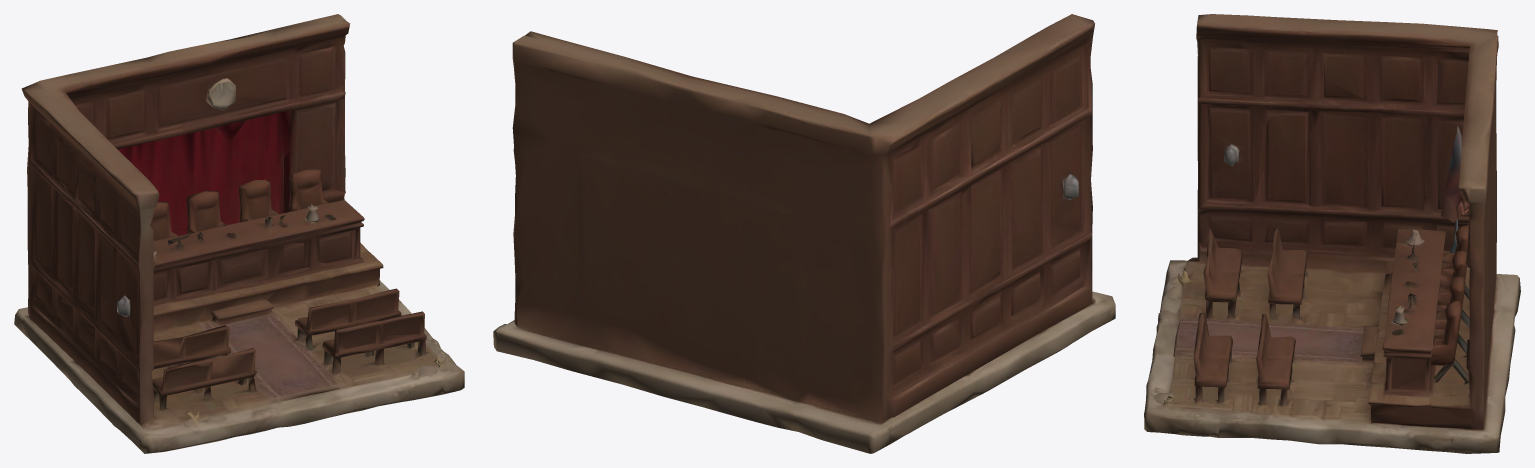
The model's file is panel_hall.glb.
The picture shows the model from 3 angles, left to right: view 1: azimuth 30°, elevation 25°; view 2: azimuth 150°, elevation 25°; view 3: azimuth 270°, elevation 25°; orthographic projection. The views are drawn at different scales.
Parts seen in each view (by area): view 1: tripo_node_3863310e-f37e-4af4-a3c4-49276fc46a0f; view 2: tripo_node_3863310e-f37e-4af4-a3c4-49276fc46a0f; view 3: tripo_node_3863310e-f37e-4af4-a3c4-49276fc46a0f.
Boxes of the visible parts, x1,y1,x2,y2 form: tripo_node_3863310e-f37e-4af4-a3c4-49276fc46a0f: [14, 14, 464, 453]; tripo_node_3863310e-f37e-4af4-a3c4-49276fc46a0f: [493, 14, 1115, 453]; tripo_node_3863310e-f37e-4af4-a3c4-49276fc46a0f: [1144, 14, 1520, 453].
Size of the model in its own units: 1 by 0.676 by 0.8724.
Materials: 1 (1 with a texture image).
